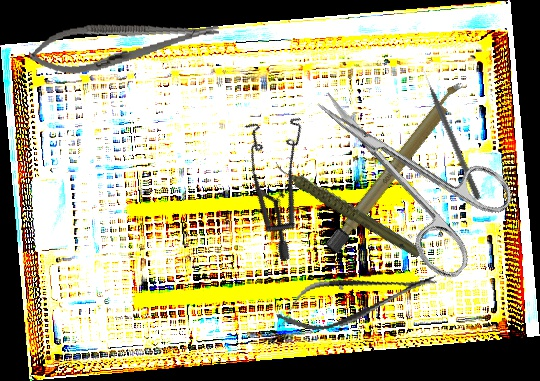Handpiece: (272, 131, 425, 284)
Iris Scissors: (286, 52, 527, 286)
Micro Scissor: (271, 257, 443, 341)
Needle Holder: (26, 6, 223, 82)
Pusher: (419, 65, 483, 201)
Scalpel Handle: (324, 77, 469, 255)
Speculum: (210, 99, 361, 263)
